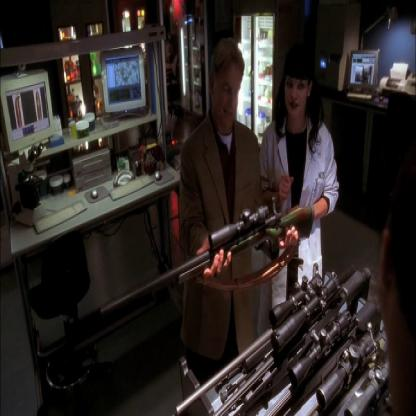Guns: (173, 258, 394, 415), (98, 194, 316, 319)
